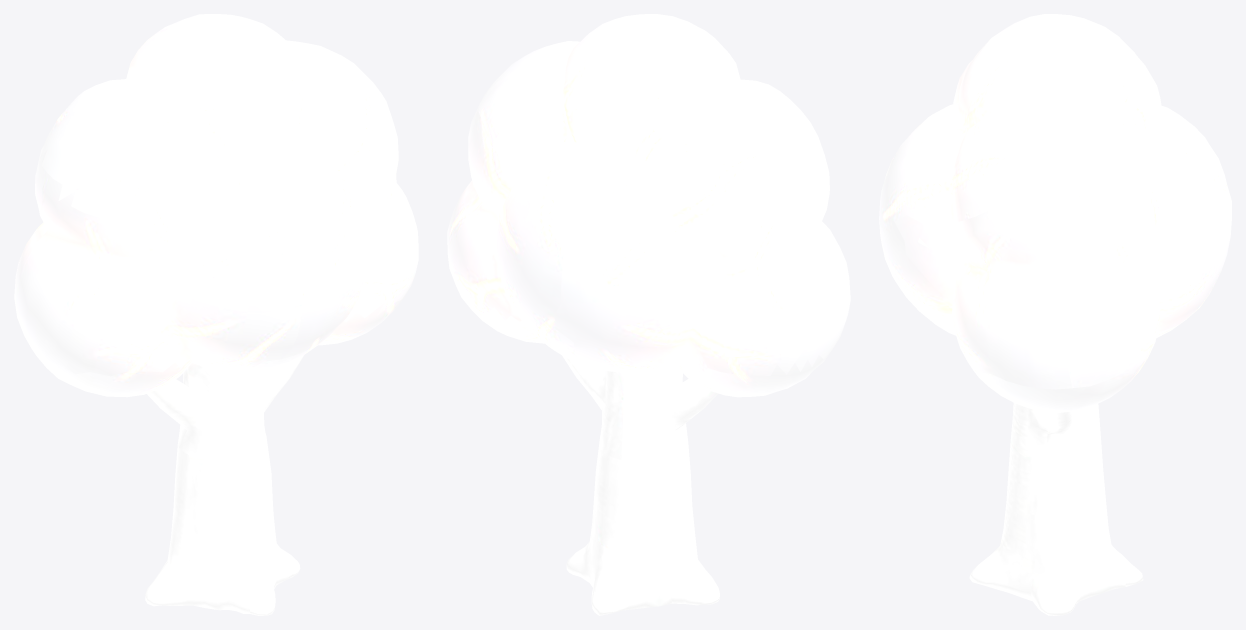
File: arvore-vulcanica.glb
3 views of the same model, side by side, from view 1: azimuth 30°, elevation 25°; view 2: azimuth 150°, elevation 25°; view 3: azimuth 270°, elevation 25° (orthographic).
Visible parts, largest first — view 1: mesh_node; view 2: mesh_node; view 3: mesh_node.
Part boxes in pixels (x1,y1,x2,y2): mesh_node: [14, 14, 418, 615]; mesh_node: [447, 14, 850, 615]; mesh_node: [879, 14, 1231, 615].
Bounding box in the file's own units: 0.6973 × 1 × 0.5762.
Materials: 1 (1 with a texture image).
